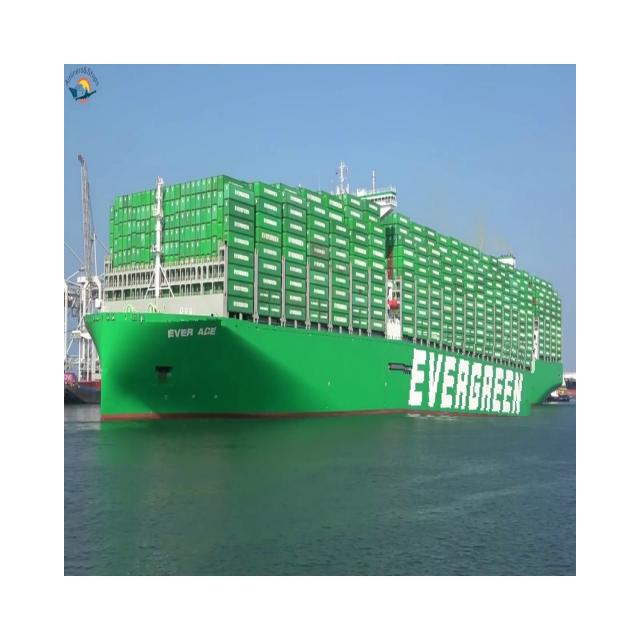OCR: (403, 331, 537, 417), (166, 318, 222, 352)
